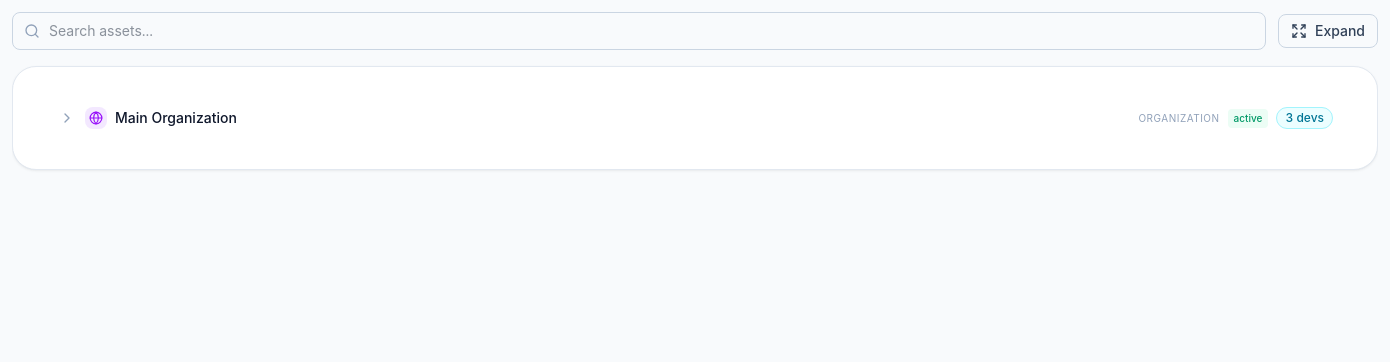
Test case: AssetTree › Должен показать "Nothing found" при пустом результате поиска
Type "zzz_nonexistent" into the field with placeholder "Search assets..." at (639, 31), box [12,12,1266,50]
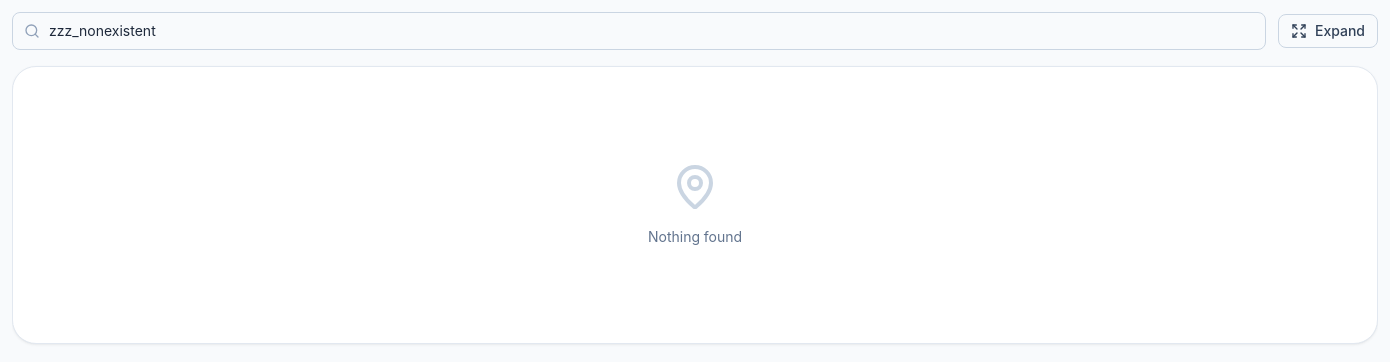
expect the text "Nothing found" is shown: met, box [648,227,742,247]
